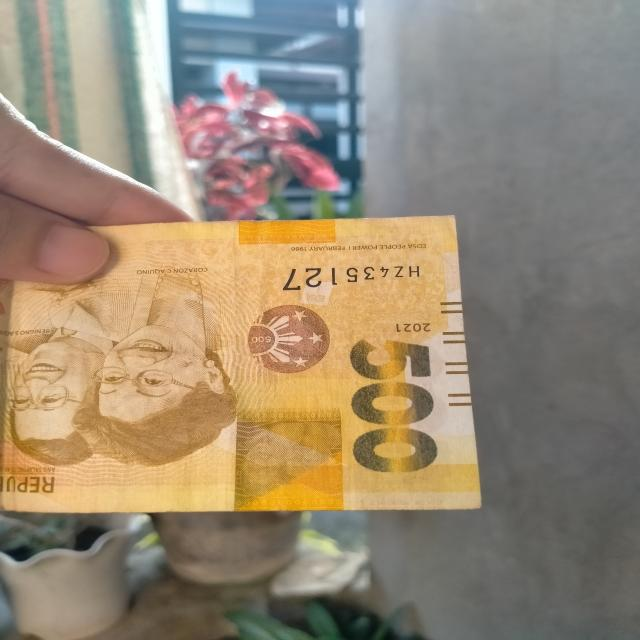concealed_value: (229, 406, 349, 510)
optically_variable_device: (232, 297, 340, 385)
serial_number: (268, 254, 427, 295)
value: (340, 334, 446, 469)
